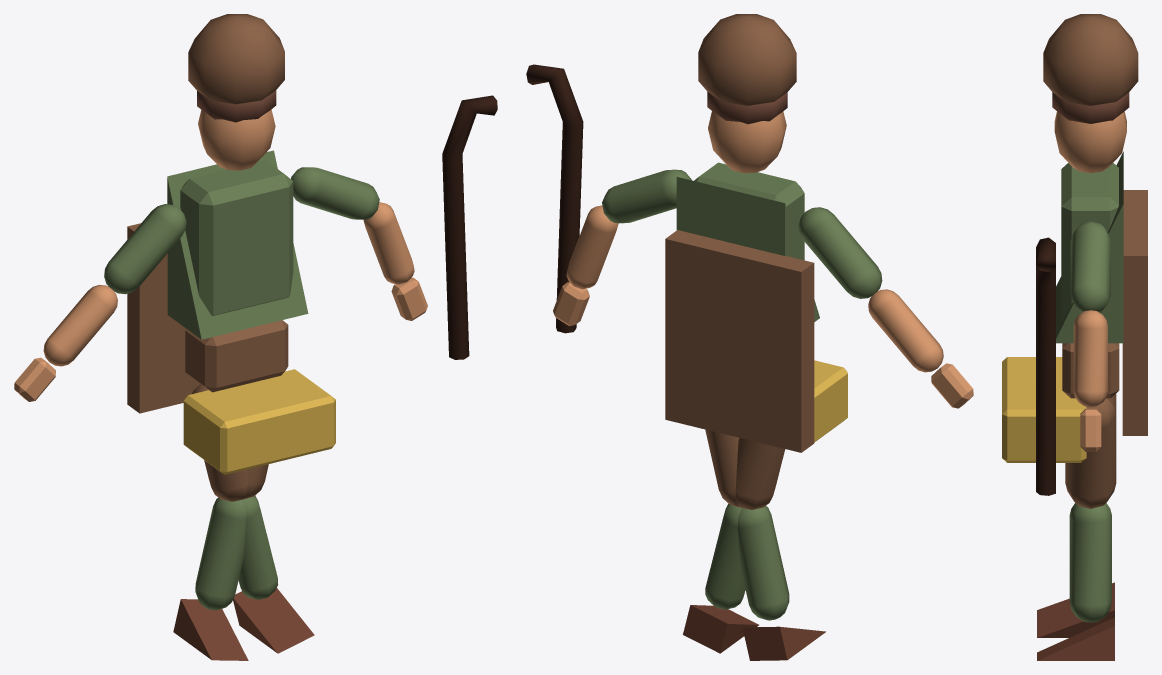
The model's file is adventurer.rustic.glb.
3 views of the same model, side by side, from view 1: azimuth 30°, elevation 25°; view 2: azimuth 150°, elevation 25°; view 3: azimuth 270°, elevation 25° (orthographic).
Visible parts, largest first — view 1: torso, accessory.waist, accessory.back, accessory.head, tunic, accessory.main-hand, pelvis, shin.right, upper-arm.left, head, upper-arm.right, forearm.left (+8 smaller); view 2: accessory.back, accessory.head, tunic, accessory.main-hand, shin.right, upper-arm.left, head, forearm.left, upper-arm.right, torso, shin.left, thigh.left (+8 smaller); view 3: accessory.head, accessory.back, accessory.waist, accessory.main-hand, shin.left, torso, upper-arm.right, thigh.right, head, forearm.right, tunic, foot.left (+4 smaller).
Boxes of the visible parts, left/top/right/bottom form: torso: left=180, top=160, right=293, bottom=315; accessory.waist: left=183, top=369, right=335, bottom=474; accessory.back: left=127, top=223, right=200, bottom=413; accessory.head: left=188, top=14, right=284, bottom=104; tunic: left=167, top=150, right=308, bottom=339; accessory.main-hand: left=442, top=95, right=497, bottom=359; pelvis: left=185, top=320, right=288, bottom=392; shin.right: left=195, top=497, right=246, bottom=610; upper-arm.left: left=104, top=204, right=186, bottom=294; head: left=198, top=109, right=275, bottom=170; upper-arm.right: left=291, top=167, right=379, bottom=219; forearm.left: left=43, top=284, right=117, bottom=366; accessory.back: left=665, top=230, right=814, bottom=452; accessory.head: left=698, top=14, right=796, bottom=105; tunic: left=676, top=177, right=819, bottom=321; accessory.main-hand: left=526, top=64, right=583, bottom=333; shin.right: left=737, top=506, right=789, bottom=620; upper-arm.left: left=798, top=207, right=882, bottom=298; head: left=708, top=111, right=786, bottom=173; forearm.left: left=868, top=289, right=943, bottom=372; upper-arm.right: left=602, top=169, right=691, bottom=223; torso: left=694, top=162, right=804, bottom=260; shin.left: left=705, top=503, right=745, bottom=609; thigh.left: left=735, top=438, right=785, bottom=509; accessory.head: left=1043, top=14, right=1138, bottom=105; accessory.back: left=1122, top=190, right=1147, bottom=435; accessory.waist: left=1002, top=357, right=1086, bottom=462; accessory.main-hand: left=1036, top=237, right=1055, bottom=495; shin.left: left=1069, top=504, right=1111, bottom=622; torso: left=1061, top=163, right=1118, bottom=318; upper-arm.right: left=1070, top=221, right=1110, bottom=312; thigh.right: left=1065, top=398, right=1116, bottom=508; head: left=1054, top=111, right=1126, bottom=173; forearm.right: left=1073, top=310, right=1107, bottom=407; tunic: left=1056, top=151, right=1123, bottom=343; foot.left: left=1037, top=617, right=1114, bottom=660.
Size of the model in its own units: 2.52 by 3.28 by 0.69.
